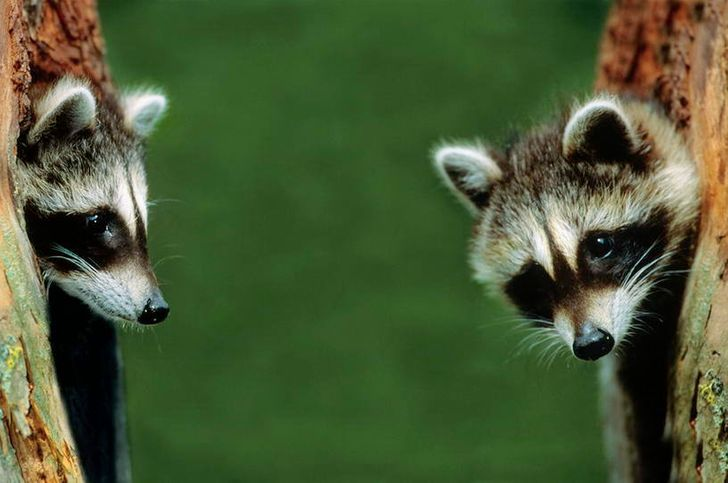raccoon: (428, 88, 697, 360), (6, 58, 175, 330)
